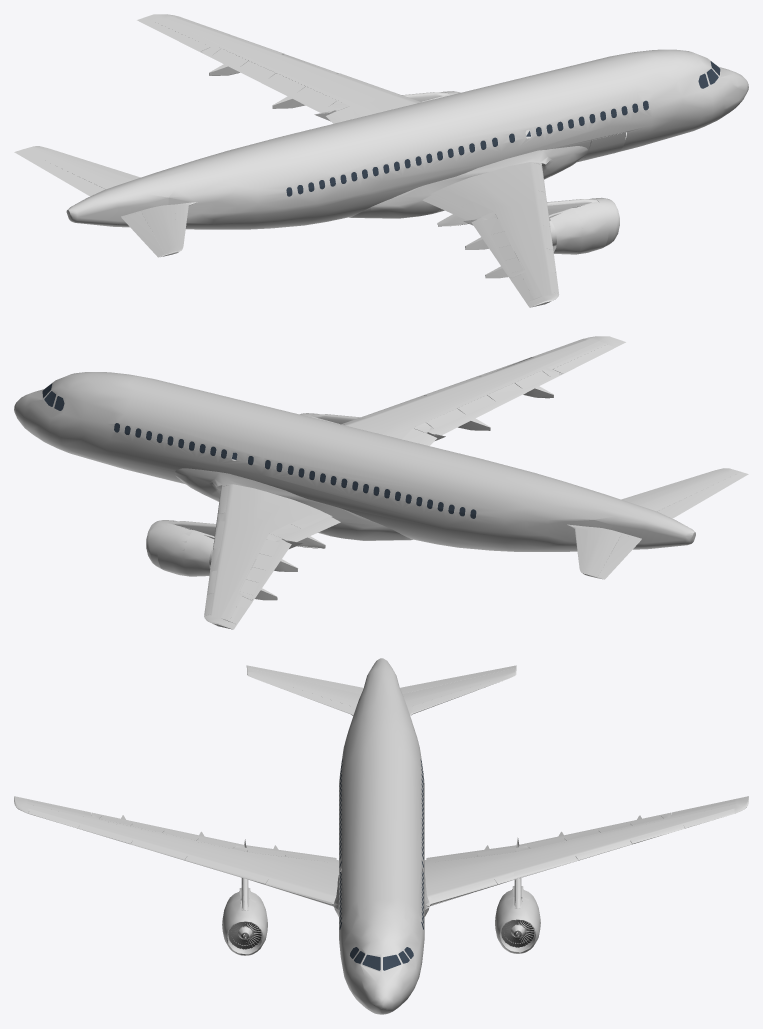
The picture shows the model from 3 angles, top to bottom: view 1: azimuth 30°, elevation 25°; view 2: azimuth 150°, elevation 25°; view 3: azimuth 270°, elevation 25°; orthographic projection. The views are drawn at different scales.
Parts seen in each view (by area): view 1: body, glass; view 2: body, glass; view 3: body, glass, trim.
Part boxes in pixels (x1,y1,x2,y2): body: (14, 14, 748, 307); glass: (286, 61, 720, 196); body: (14, 336, 748, 629); glass: (42, 383, 476, 518); body: (14, 658, 748, 1014); glass: (339, 759, 423, 970); trim: (228, 920, 534, 949).
Size of the model in its own units: 2.19 by 0.3447 by 2.2.
